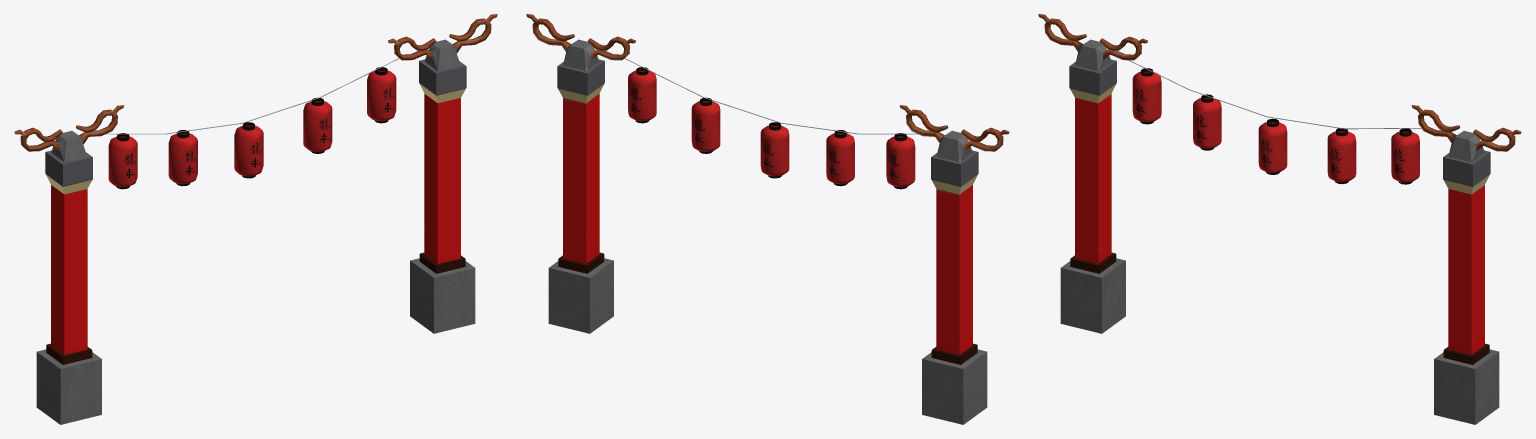
File: FarolsDoublePost.fbx
3 views of the same model, side by side, from view 1: azimuth 30°, elevation 25°; view 2: azimuth 150°, elevation 25°; view 3: azimuth 330°, elevation 25° (orthographic).
Parts seen in each view (by area): view 1: FarolPosts2; view 2: FarolPosts2; view 3: FarolPosts2.
Boxes of the visible parts, x1,y1,x2,y2 form: FarolPosts2: (14,14,497,424); FarolPosts2: (526,14,1009,424); FarolPosts2: (1038,14,1521,424).
Size of the model in its own units: 36.42 by 21.12 by 3.12.
Materials: 3 (2 with a texture image).
